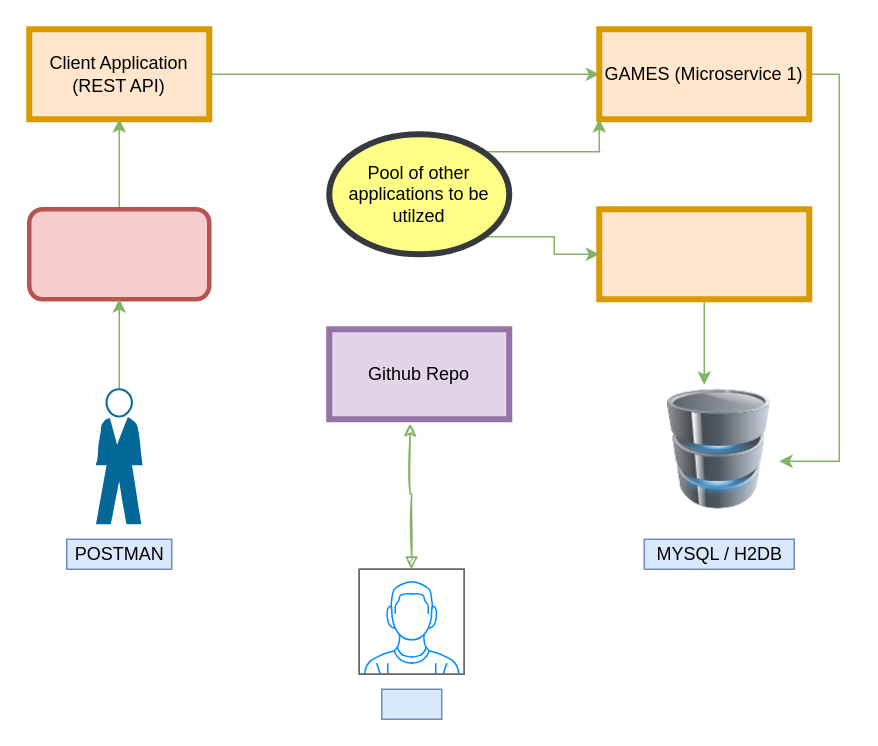
The diagram is 878 pixels wide and 746 high, and some of its shapes have lost their labels. The centre of each missing label's shape, as x and y in pixels:
"APPLICATIONS (Microservice 2)" belongs at (x=704, y=254).
"Call to REST API launch" belongs at (x=118, y=253).
"User" belongs at (x=411, y=703).
